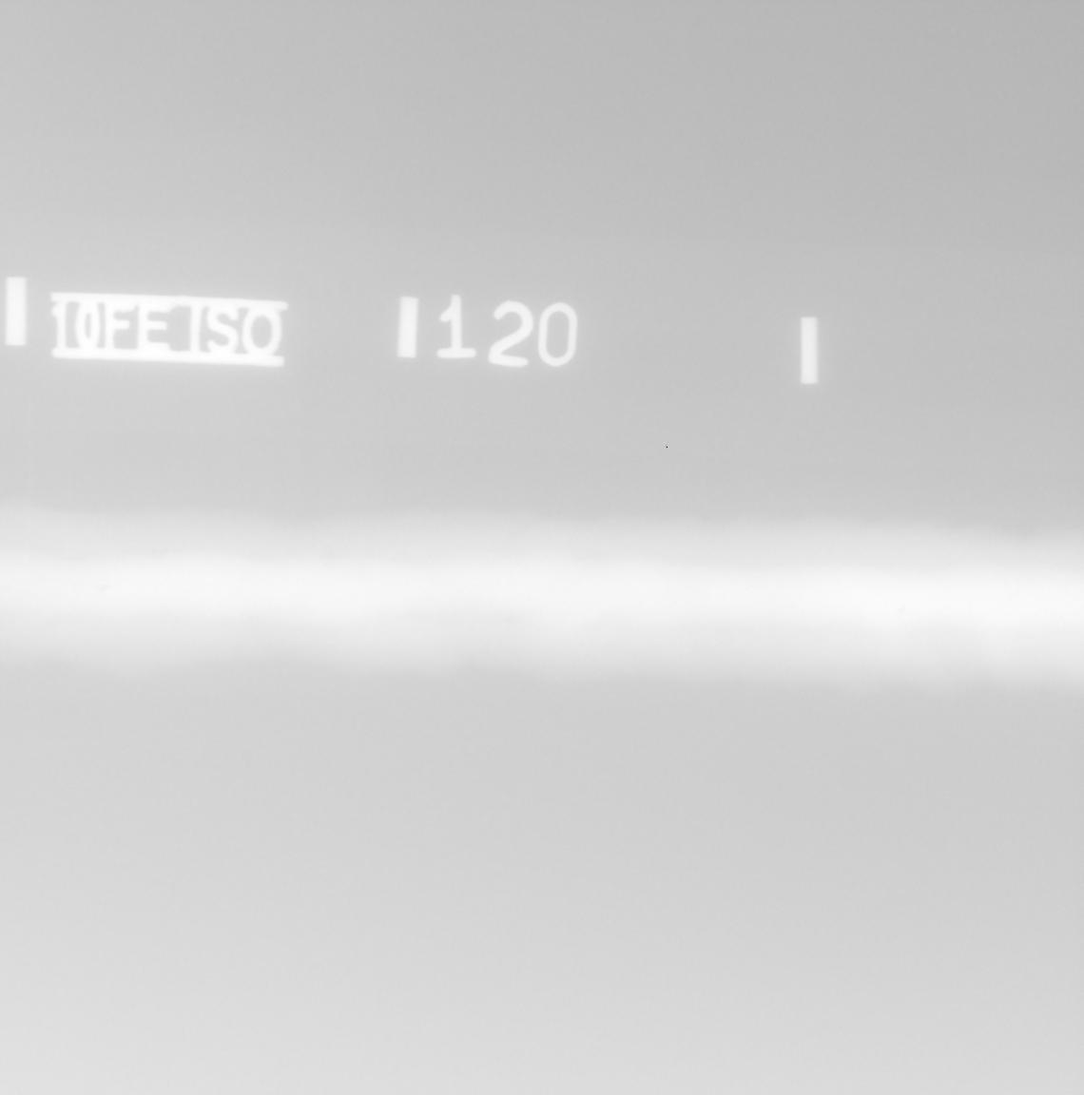Inclusion: (98, 585, 108, 593), (72, 581, 84, 587), (2, 587, 13, 591), (897, 610, 906, 614)
